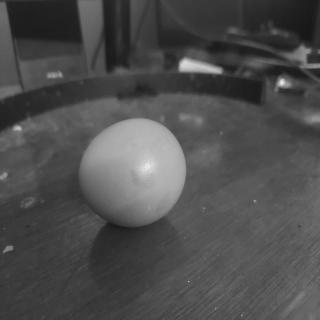Telur: (75, 115, 189, 233)
